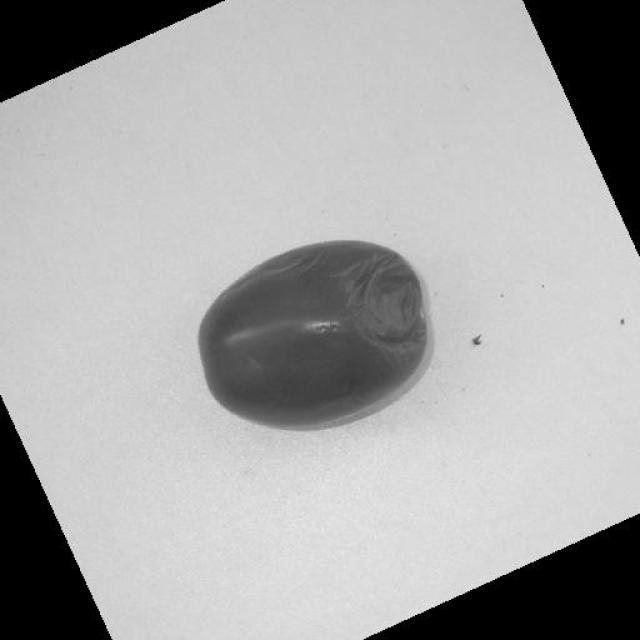Stale_tomato: (196, 234, 446, 432)
